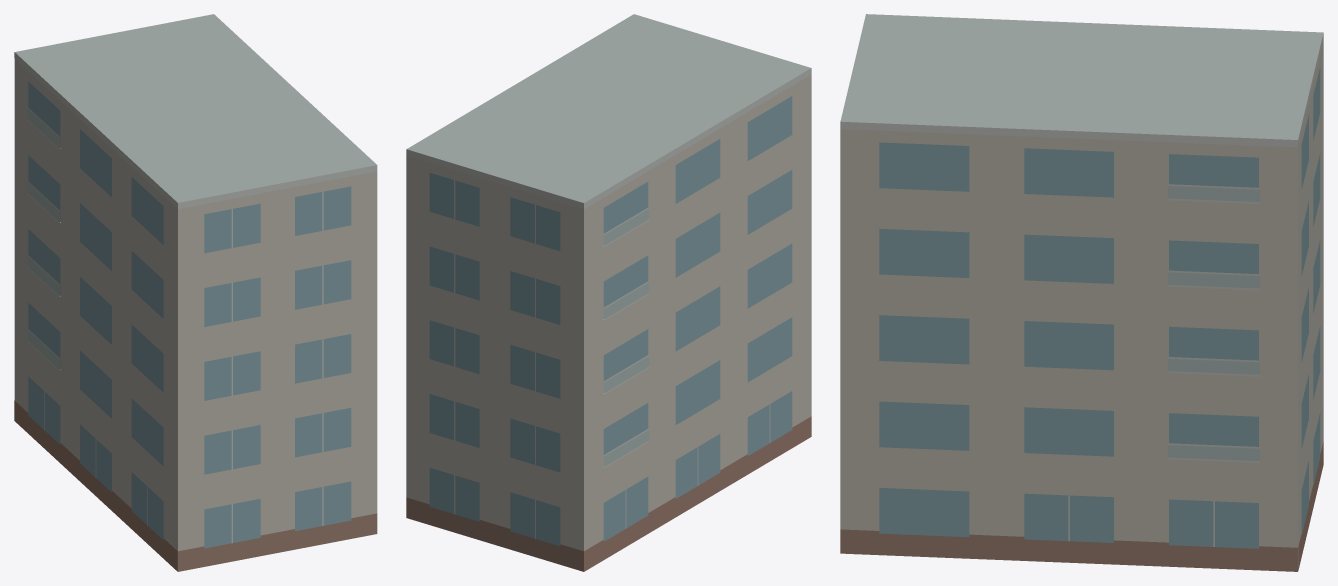
The model's file is survey-upis-32585574.glb.
The picture shows the model from 3 angles, left to right: view 1: azimuth 30°, elevation 25°; view 2: azimuth 150°, elevation 25°; view 3: azimuth 270°, elevation 25°; orthographic projection. The views are drawn at different scales.
Parts seen in each view (by area): view 1: survey-upis-32585574.tmp; view 2: survey-upis-32585574.tmp; view 3: survey-upis-32585574.tmp.
Boxes of the visible parts, bbox=[...] form: survey-upis-32585574.tmp: bbox=[14, 14, 377, 571]; survey-upis-32585574.tmp: bbox=[406, 14, 811, 571]; survey-upis-32585574.tmp: bbox=[840, 14, 1323, 571].
Bounding box in the file's own units: 9.03 × 14.4 × 14.62.
